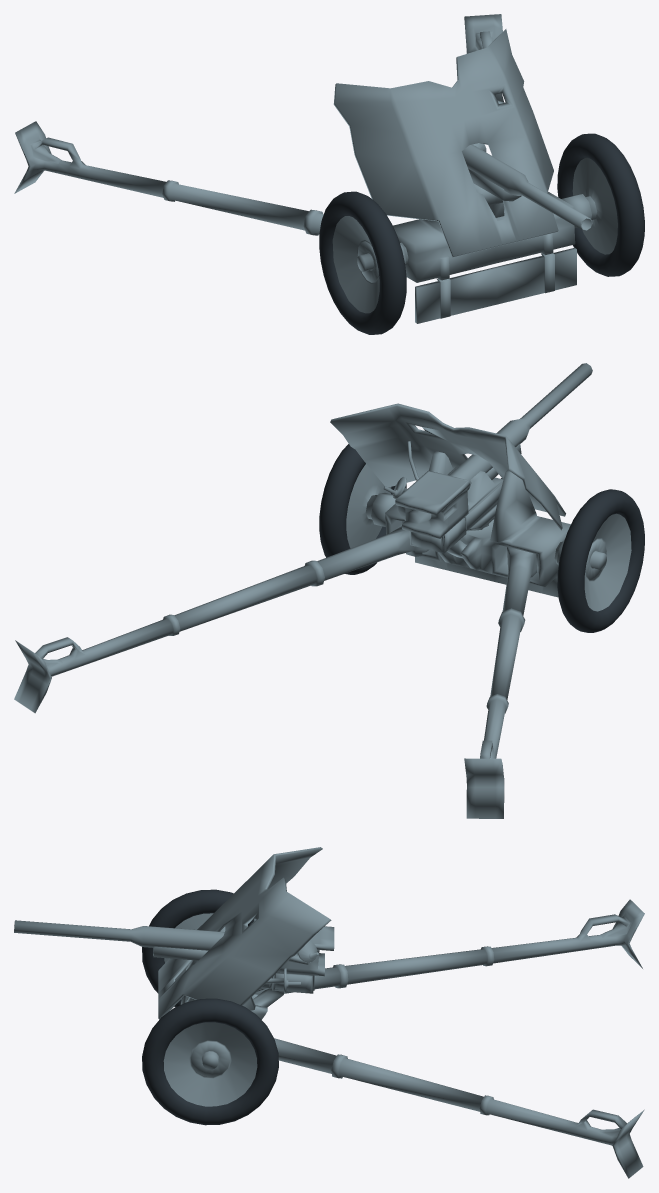
The model's file is pak36_apply.fbx.
The picture shows the model from 3 angles, top to bottom: view 1: azimuth 30°, elevation 25°; view 2: azimuth 150°, elevation 25°; view 3: azimuth 270°, elevation 25°; orthographic projection. The views are drawn at different scales.
Parts seen in each view (by area): view 1: gun mechanism, Cylinder, outer; view 2: Cylinder, gun mechanism, outer; view 3: Cylinder, gun mechanism, outer.
Boxes of the visible parts, left/top/right/bottom form: gun mechanism: left=333, top=29, right=592, bottom=257; Cylinder: left=14, top=14, right=617, bottom=323; outer: left=319, top=133, right=644, bottom=334; Cylinder: left=14, top=451, right=631, bottom=818; gun mechanism: left=330, top=363, right=592, bottom=558; outer: left=319, top=444, right=644, bottom=632; Cylinder: left=163, top=899, right=644, bottom=1178; gun mechanism: left=14, top=847, right=334, bottom=1019; outer: left=142, top=889, right=278, bottom=1125.
Size of the model in its own units: 625 by 260 by 744.
